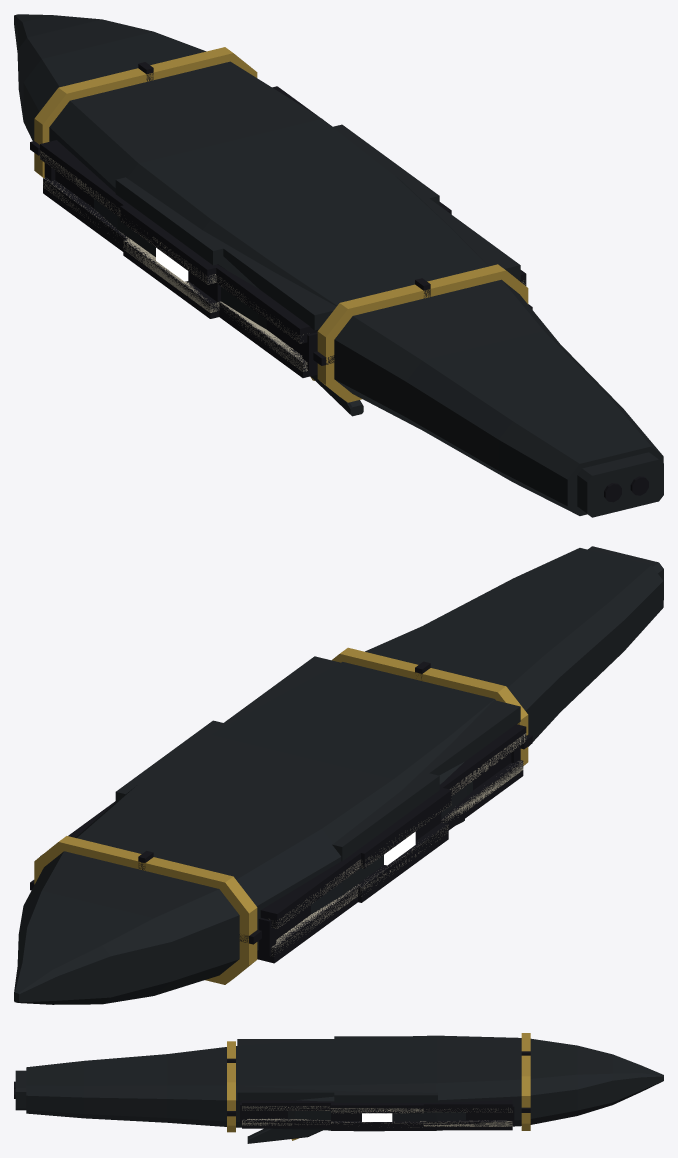
3 views of the same model, one above another, from view 1: azimuth 30°, elevation 25°; view 2: azimuth 150°, elevation 25°; view 3: azimuth 270°, elevation 25° (orthographic). The views are drawn at different scales.
Parts seen in each view (by area): view 1: RIMWARD_HULL; view 2: RIMWARD_HULL; view 3: RIMWARD_HULL, RIMWARD_EMISSIVE.
Boxes of the visible parts, x1,y1,x2,y2 form: RIMWARD_HULL: [14, 14, 663, 517]; RIMWARD_HULL: [14, 546, 663, 1004]; RIMWARD_HULL: [14, 1033, 663, 1143]; RIMWARD_EMISSIVE: [362, 1113, 392, 1121].
Bounding box in the file's own units: 1.69 × 0.9585 × 7.3.
